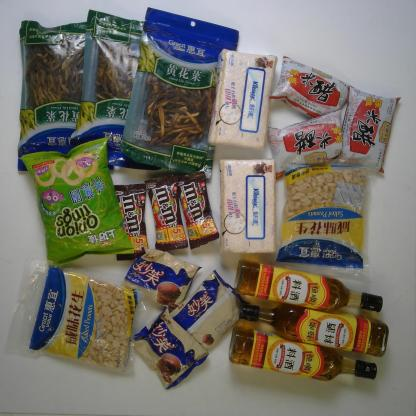Chocolate: (142, 169, 190, 252), (174, 169, 223, 250), (108, 180, 153, 264)
Dessert: (120, 304, 209, 394), (166, 268, 246, 353), (122, 245, 204, 310)
Dried Food: (116, 5, 244, 176), (65, 5, 167, 173), (10, 17, 115, 174)
Dried Fruit: (7, 256, 146, 380), (274, 152, 376, 284)
Puffed Food: (15, 134, 136, 270)
Seasoner: (225, 323, 378, 384), (235, 300, 390, 359), (233, 258, 384, 315), (334, 83, 402, 175), (265, 106, 348, 179), (268, 52, 354, 121)
Tissue: (205, 47, 278, 151), (213, 156, 277, 255)
